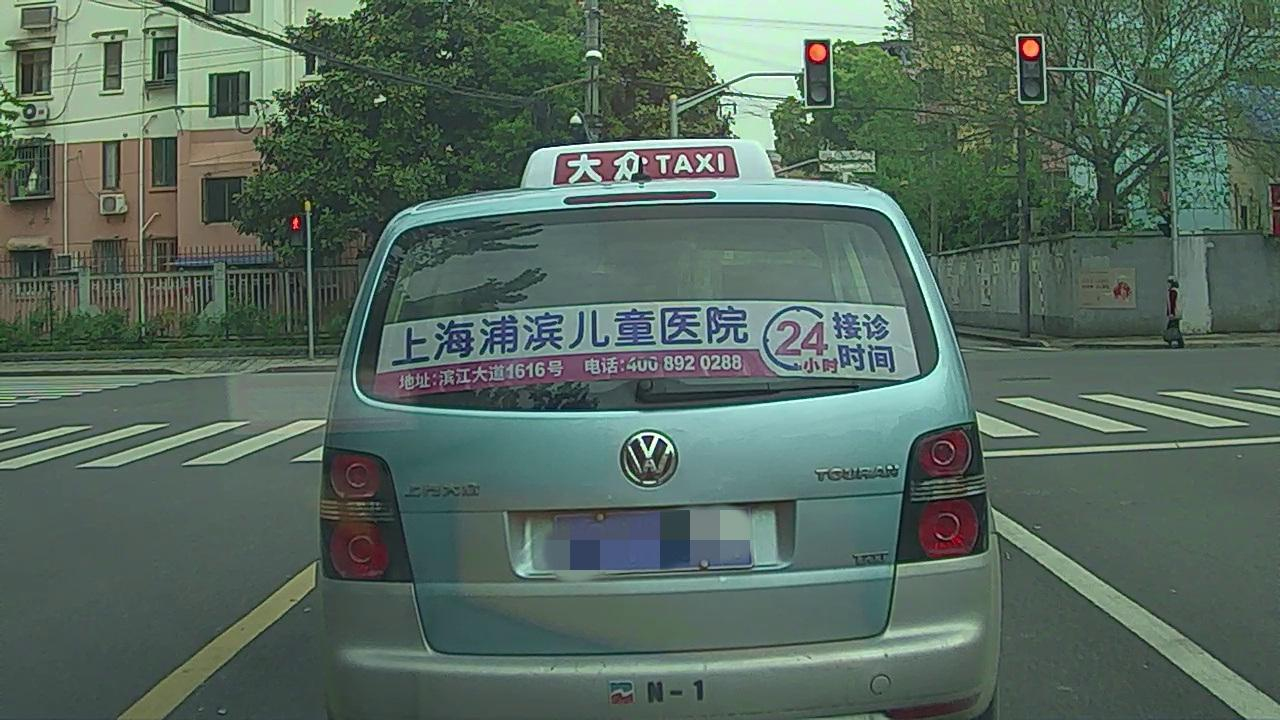traffic_light: (1017, 33, 1043, 100), (806, 43, 832, 105)
